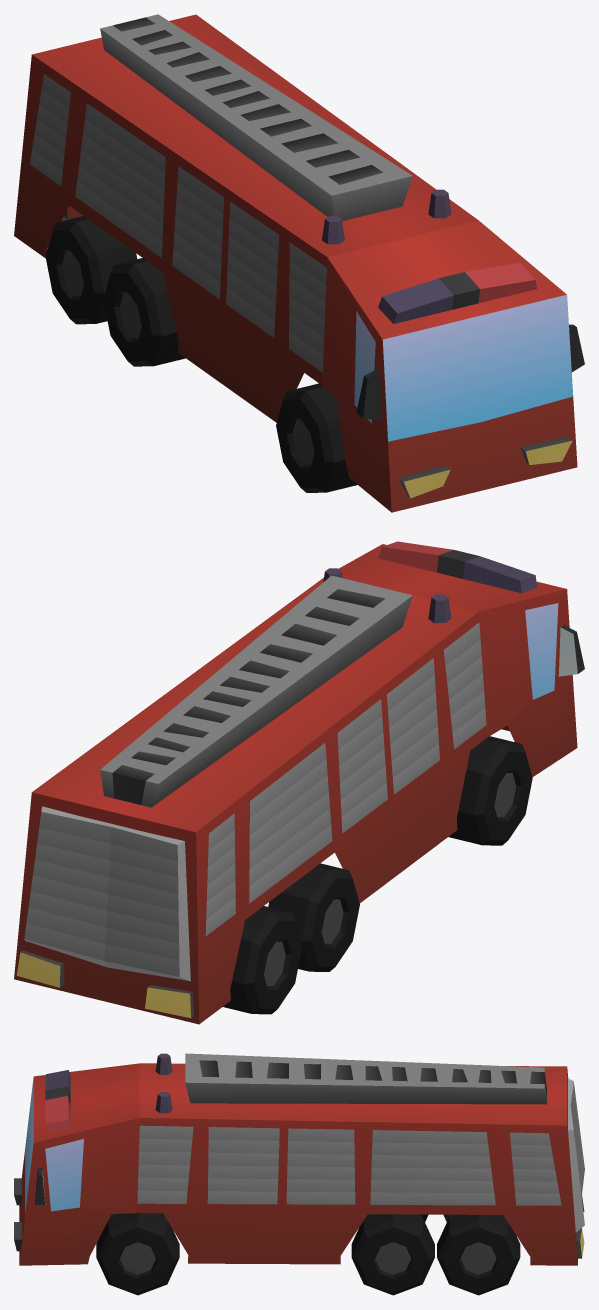
File: firetruck.fbx
3 renders of one model, top to bottom at view 1: azimuth 30°, elevation 25°; view 2: azimuth 150°, elevation 25°; view 3: azimuth 270°, elevation 25°, orthographic. The views are drawn at different scales.
Parts seen in each view (by area): view 1: f_base, f_ladder, f_wheels, f_signals1, f_light_front, f_mirrors, f_signals2; view 2: f_base, f_ladder, f_backdoor, f_wheels, f_signals1, f_light_back, f_mirrors, f_signals2; view 3: f_base, f_wheels, f_ladder, f_backdoor, f_signals1, f_signals2, f_light_front.
Boxes of the visible parts, x1,y1,x2,y2 form: f_base: [14, 14, 577, 512]; f_ladder: [100, 14, 412, 220]; f_wheels: [45, 216, 357, 492]; f_signals1: [378, 263, 536, 323]; f_light_front: [398, 436, 572, 498]; f_mirrors: [356, 324, 584, 420]; f_signals2: [322, 189, 451, 244]; f_base: [14, 544, 577, 1024]; f_ladder: [100, 575, 412, 807]; f_backdoor: [24, 806, 190, 981]; f_wheels: [223, 736, 532, 1014]; f_signals1: [378, 541, 536, 593]; f_light_back: [16, 950, 193, 1018]; f_mirrors: [558, 625, 584, 676]; f_signals2: [323, 568, 451, 623]; f_base: [19, 1063, 577, 1265]; f_wheels: [96, 1213, 520, 1295]; f_ladder: [185, 1053, 546, 1104]; f_backdoor: [568, 1078, 584, 1232]; f_signals1: [45, 1070, 70, 1132]; f_signals2: [155, 1053, 172, 1113]; f_light_front: [14, 1178, 21, 1251].
Bounding box in the file's own units: 301 × 907 × 337.
